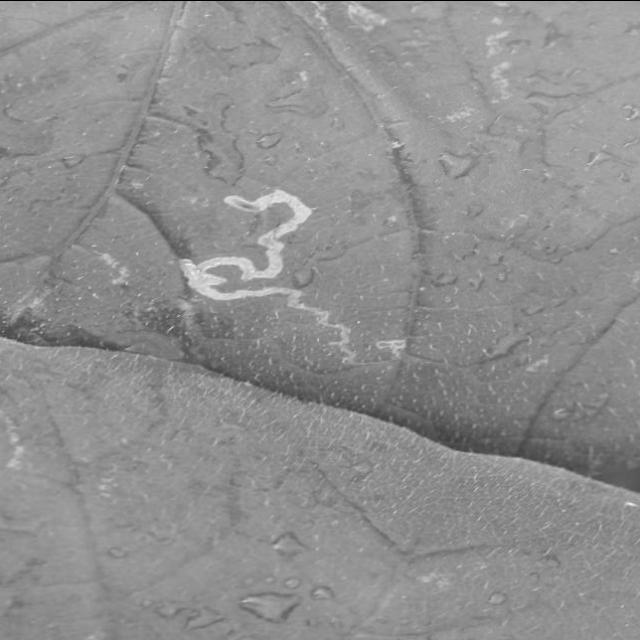Serpentine leafminer: (172, 186, 414, 372)
